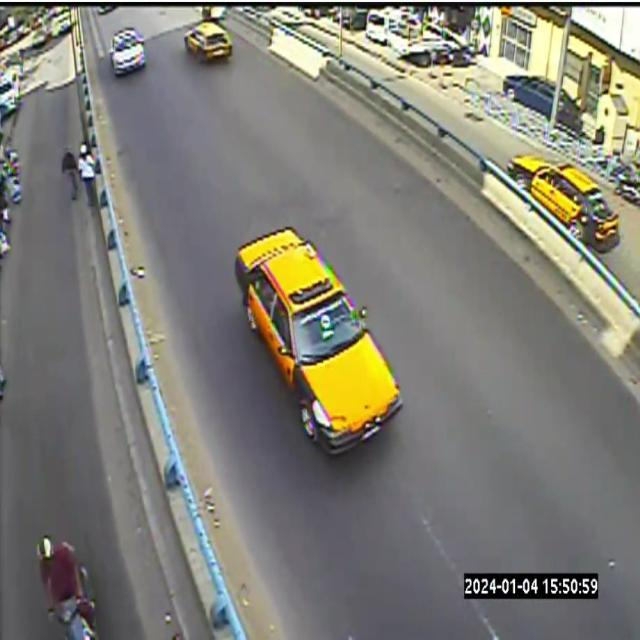car: (185, 20, 232, 61), (109, 28, 145, 75), (289, 278, 330, 304)
